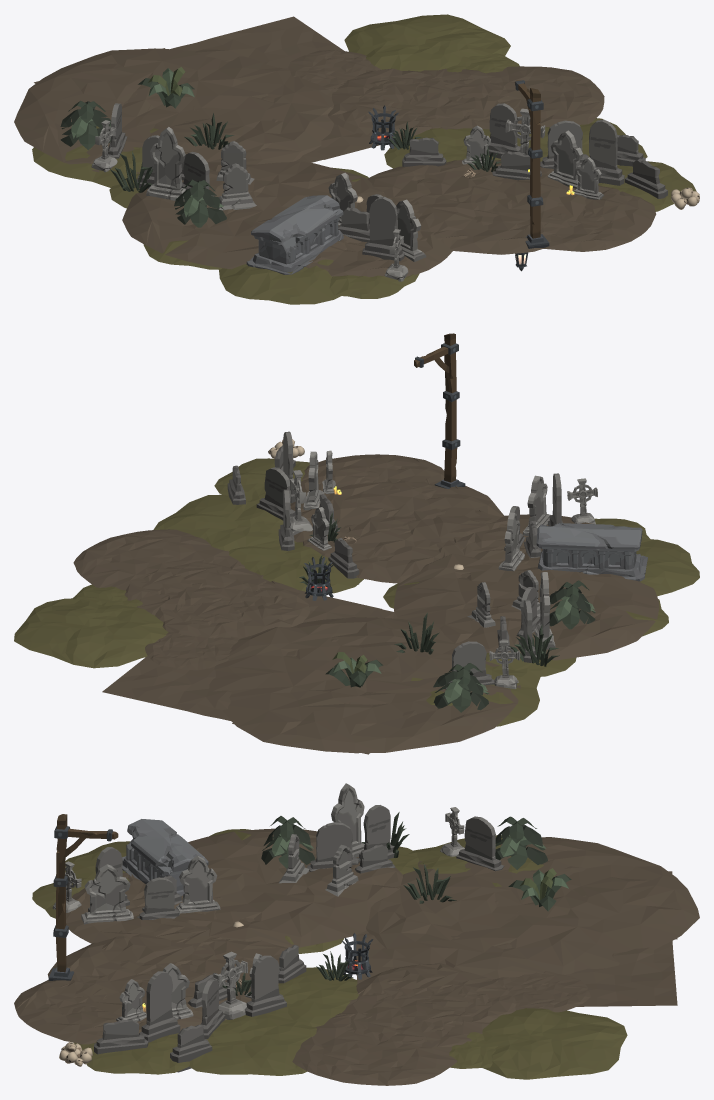
Rendered from crypt_graves_a.gltf.
3 views of the same model, one above another, from view 1: azimuth 30°, elevation 25°; view 2: azimuth 150°, elevation 25°; view 3: azimuth 270°, elevation 25° (orthographic). The views are drawn at different scales.
Visible parts, largest first — view 1: crypt_graves_a; view 2: crypt_graves_a; view 3: crypt_graves_a.
Part boxes in pixels (<box>): crypt_graves_a: <box>14,14,699,304</box>; crypt_graves_a: <box>14,333,699,754</box>; crypt_graves_a: <box>14,783,699,1085</box>.
Size of the model in its own units: 14.74 by 5.55 by 16.46.
Materials: 1 (1 with a texture image).
